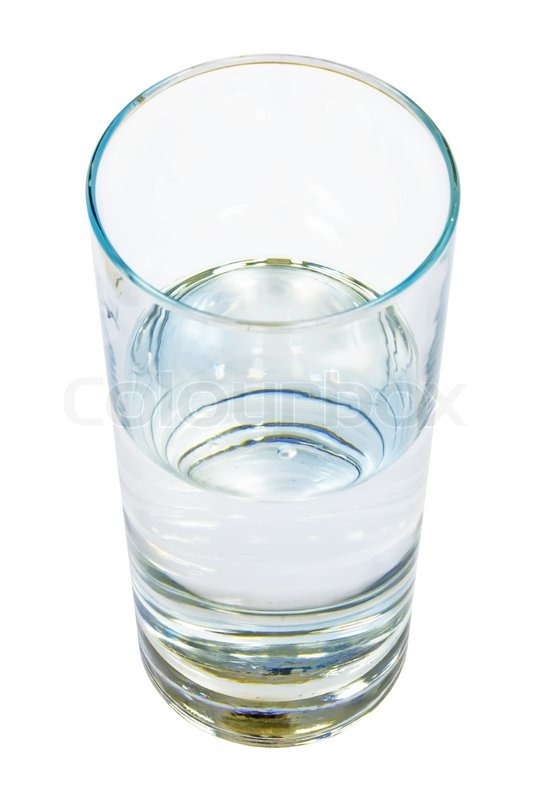glass of water: (82, 53, 461, 743)
